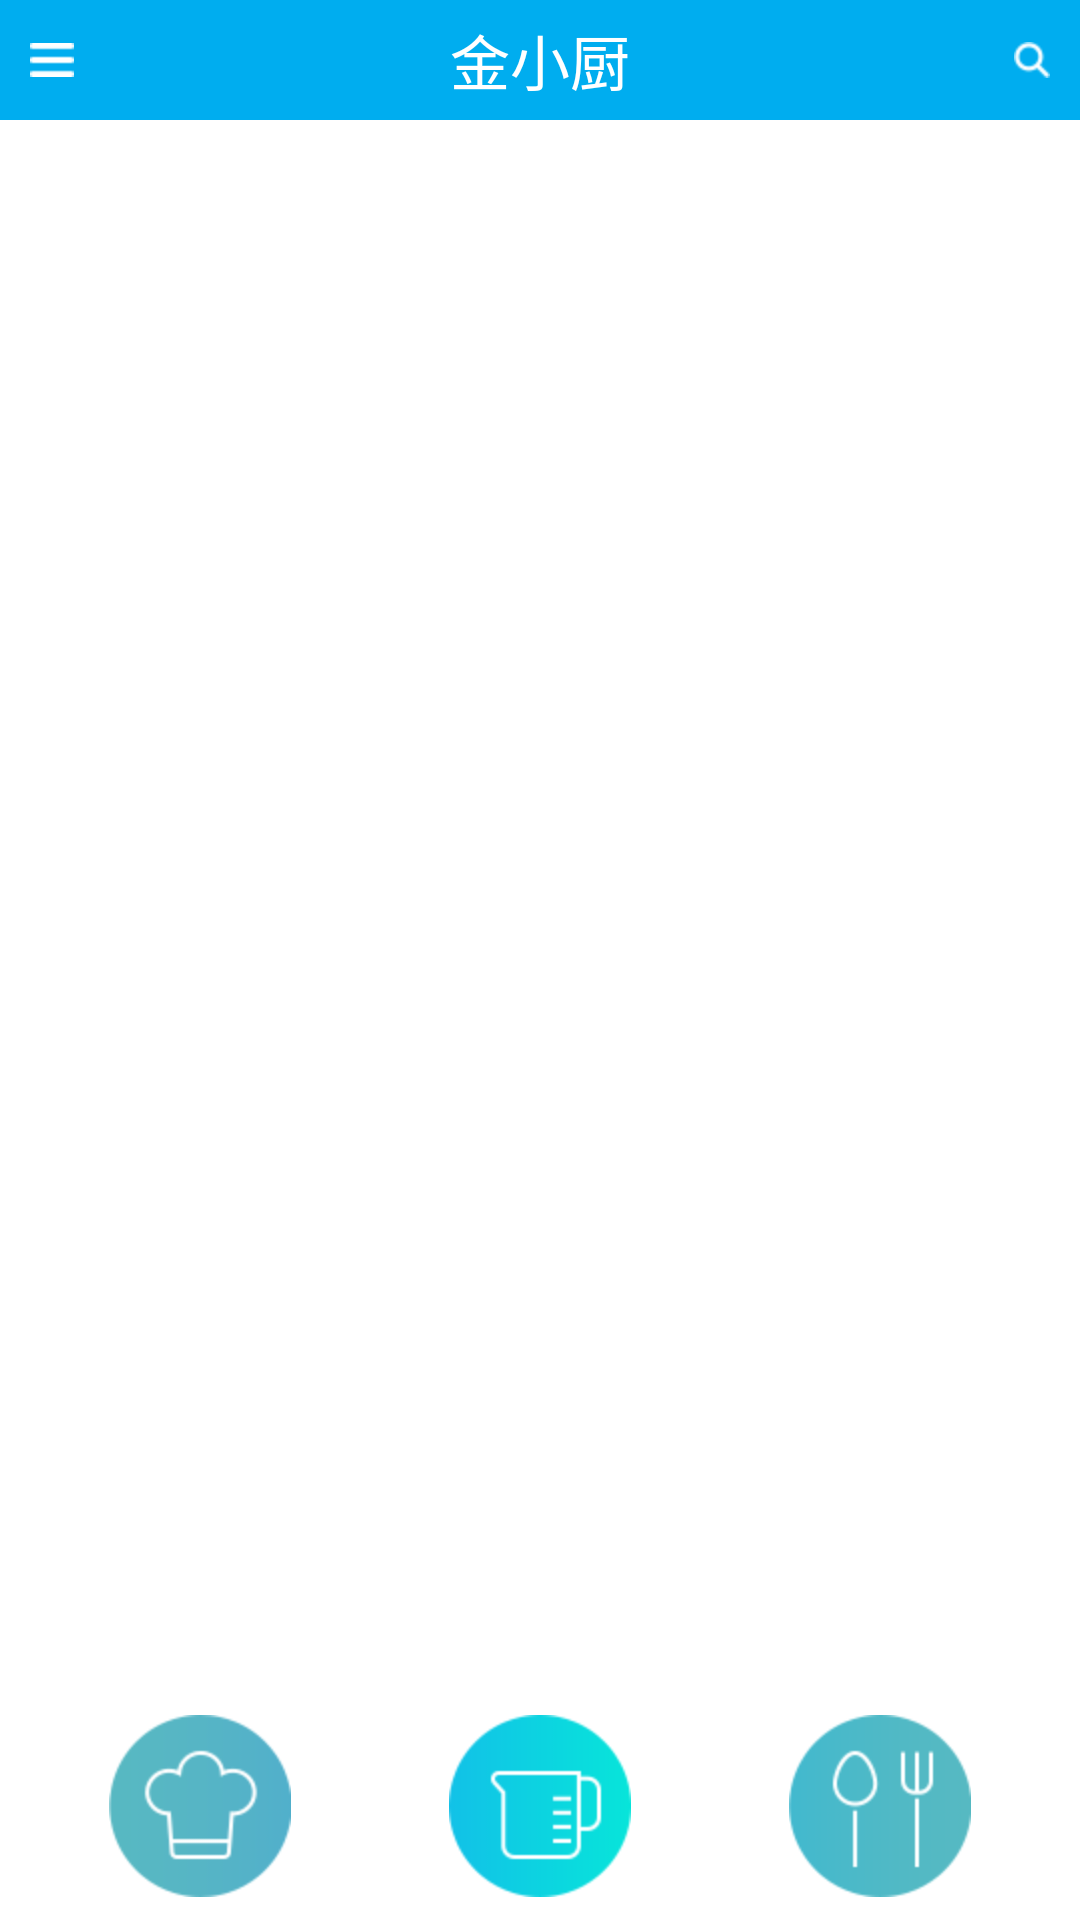

Point at icon controls on the screen. Image size 1080px x 1920px, points as [x,y].
hat: [200,1806]
measuring: [540,1806]
menu: [52,60]
search: [1032,60]
spoon: [880,1806]
